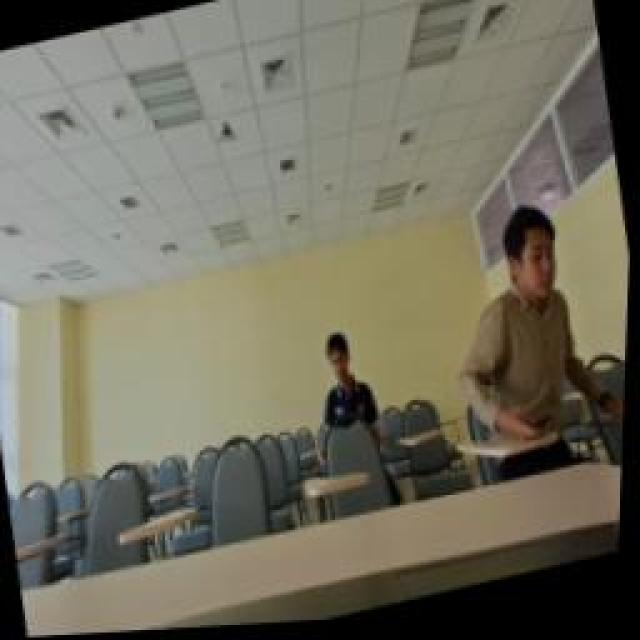study: (438, 185, 608, 450), (303, 322, 395, 480)
